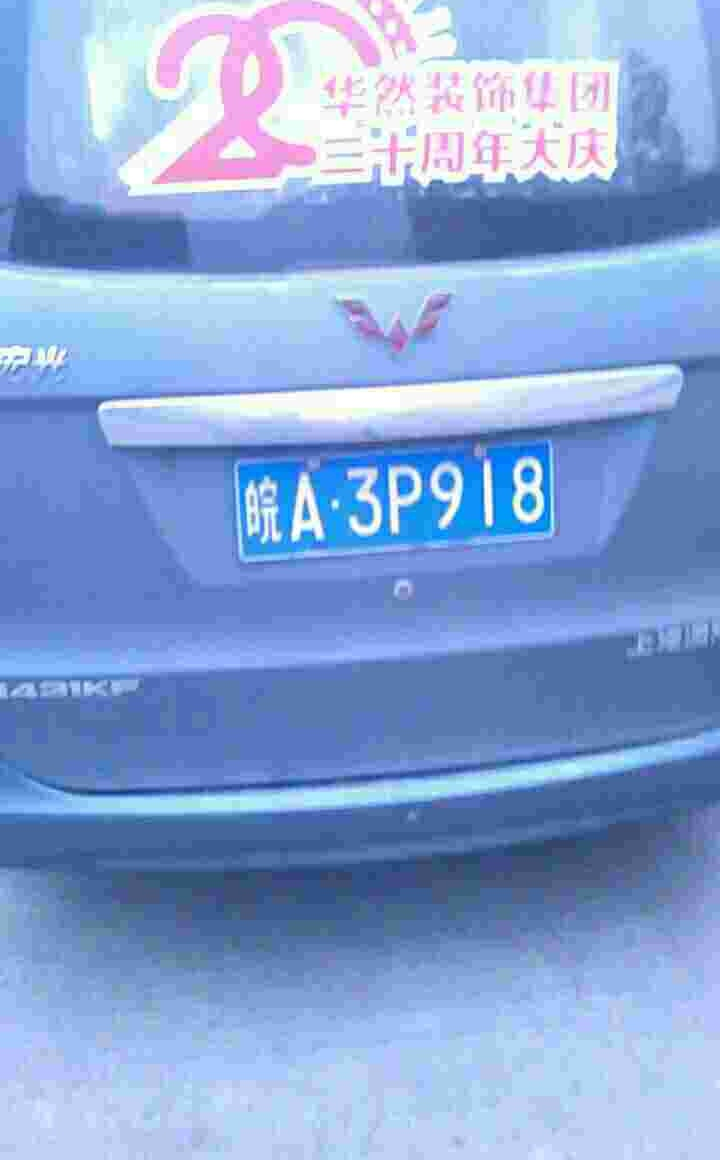license_plate: (236, 442, 555, 564)
